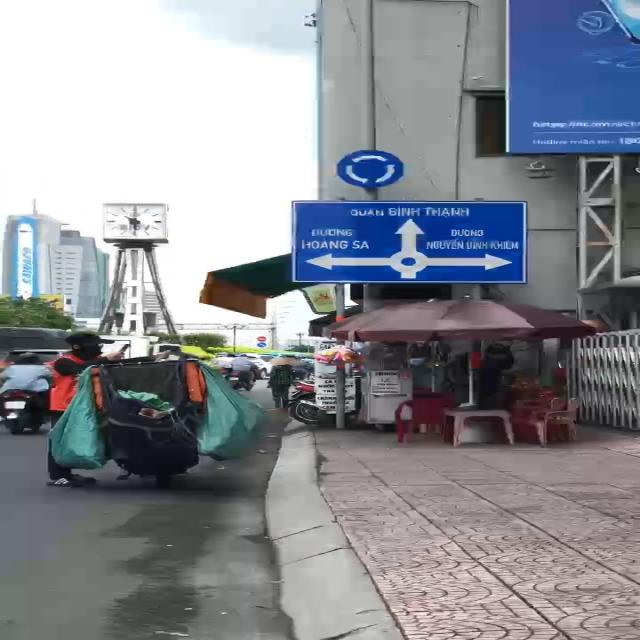Bien bao noi giao nhau chay theo vong xuyen: (329, 146, 412, 190)
